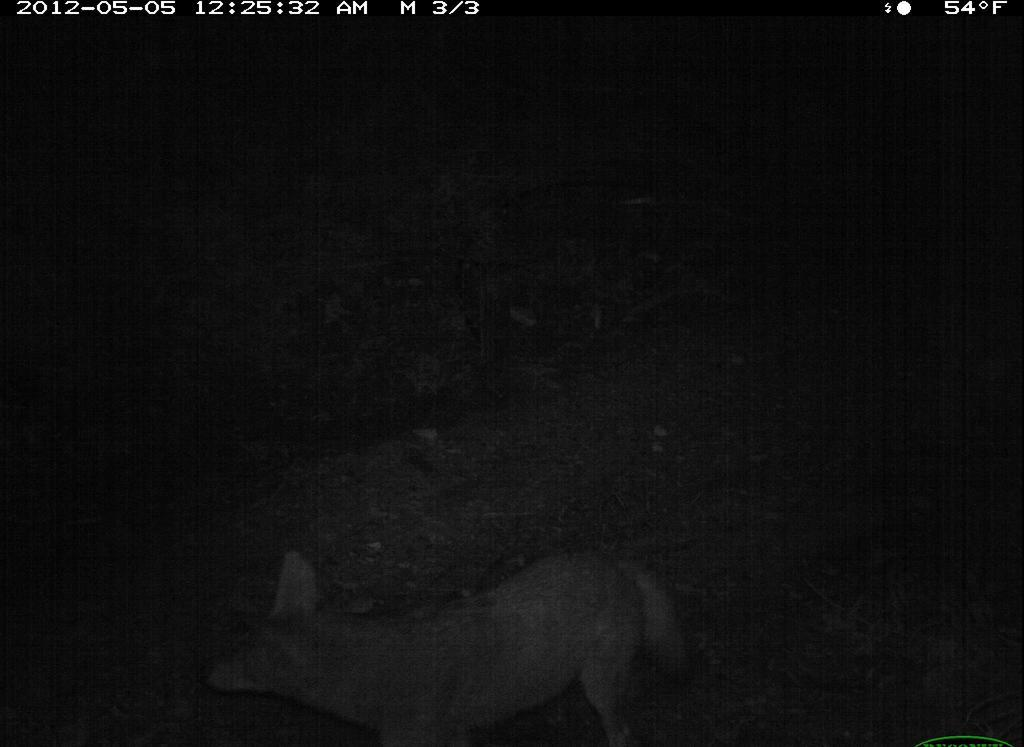coyote: (204, 547, 692, 747)
